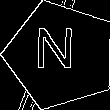N_S: (39, 30, 82, 81)
